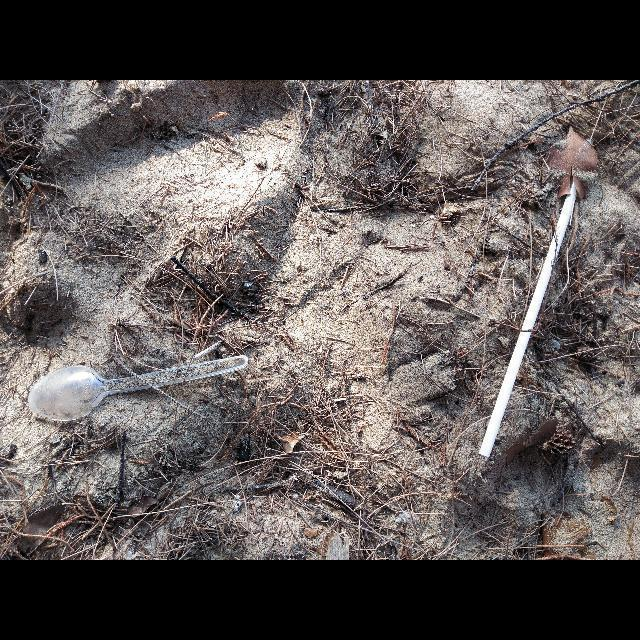Plastic: (478, 173, 578, 457), (29, 356, 248, 420)
